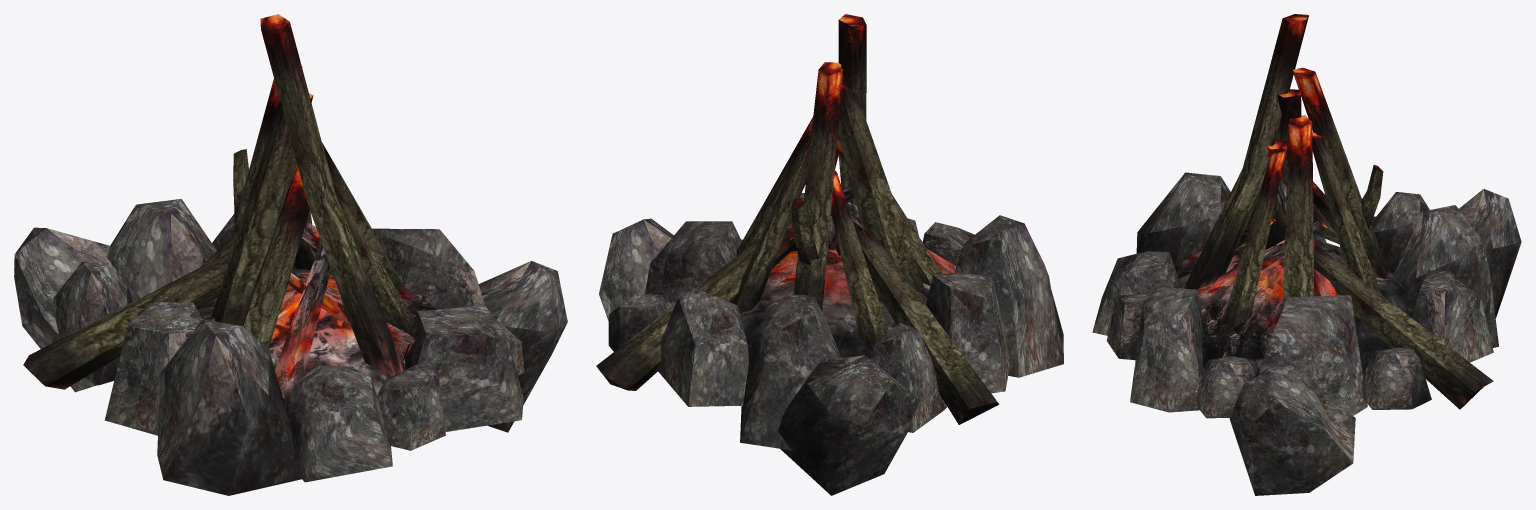
Rendered from thing_campfire_stone.fbx.
The picture shows the model from 3 angles, left to right: view 1: azimuth 30°, elevation 25°; view 2: azimuth 150°, elevation 25°; view 3: azimuth 270°, elevation 25°; orthographic projection. The views are drawn at different scales.
Parts seen in each view (by area): view 1: thing_campfire_stone; view 2: thing_campfire_stone; view 3: thing_campfire_stone.
Part boxes in pixels (<box>): thing_campfire_stone: <box>14,14,567,495</box>; thing_campfire_stone: <box>596,14,1063,495</box>; thing_campfire_stone: <box>1092,14,1521,495</box>.
Size of the model in its own units: 8.12 by 7.3 by 7.27.
